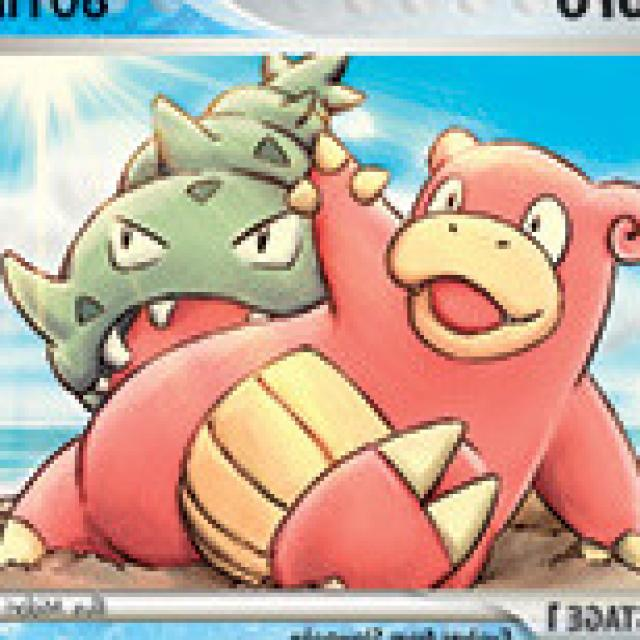Slowbro: (76, 129, 636, 585)
